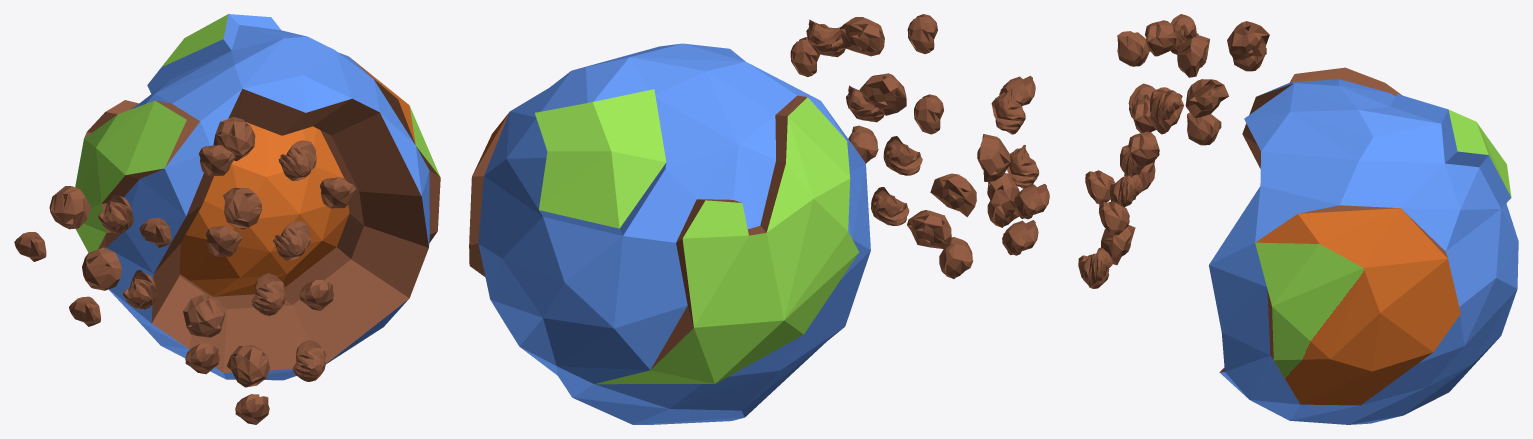
Rendered from PlanetDestroid.glb.
3 renders of one model, left to right at view 1: azimuth 30°, elevation 25°; view 2: azimuth 150°, elevation 25°; view 3: azimuth 270°, elevation 25°, orthographic. The views are drawn at different scales.
Visible parts, largest first — view 1: PlanetDestroid; view 2: PlanetDestroid; view 3: PlanetDestroid.
Boxes of the visible parts, x1,y1,x2,y2 form: PlanetDestroid: [14, 14, 440, 424]; PlanetDestroid: [469, 14, 1049, 424]; PlanetDestroid: [1078, 14, 1518, 424].
Size of the model in its own units: 29.2 by 19.85 by 24.33.
Materials: 1 (1 with a texture image).
